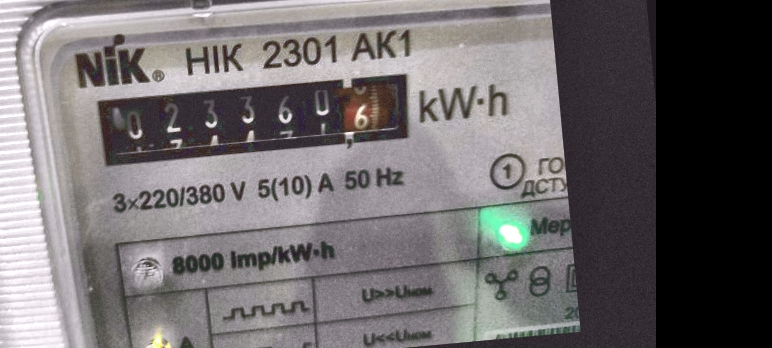0: (121, 106, 145, 140), (311, 84, 330, 117)
2: (158, 99, 184, 135)
3: (196, 96, 220, 129), (235, 91, 257, 124)
6: (271, 91, 294, 124), (347, 99, 371, 130)
screen: (76, 53, 426, 182)
